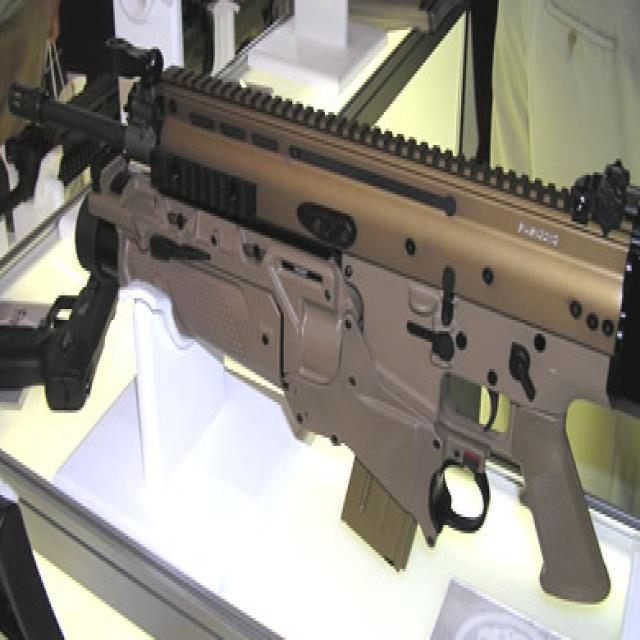Gun: (15, 29, 640, 616)
